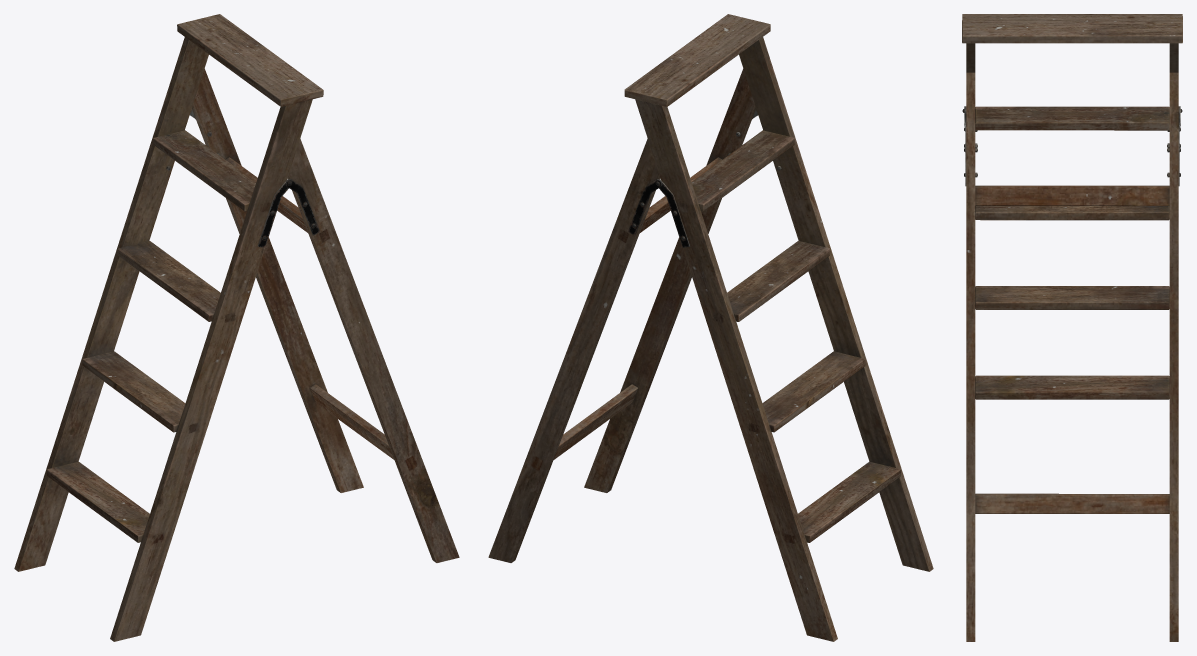
File: StepLadder.fbx
3 renders of one model, left to right at view 1: azimuth 30°, elevation 25°; view 2: azimuth 150°, elevation 25°; view 3: azimuth 270°, elevation 25°, orthographic. The views are drawn at different scales.
Parts seen in each view (by area): view 1: StepLadder; view 2: StepLadder; view 3: StepLadder.
Boxes of the visible parts, box(x1,y1,x2,y2) form: StepLadder: box(14, 14, 459, 641); StepLadder: box(488, 14, 933, 641); StepLadder: box(962, 14, 1182, 641).
Bounding box in the file's own units: 0.9592 × 1.33 × 0.5.
1 material, 1 textured.
